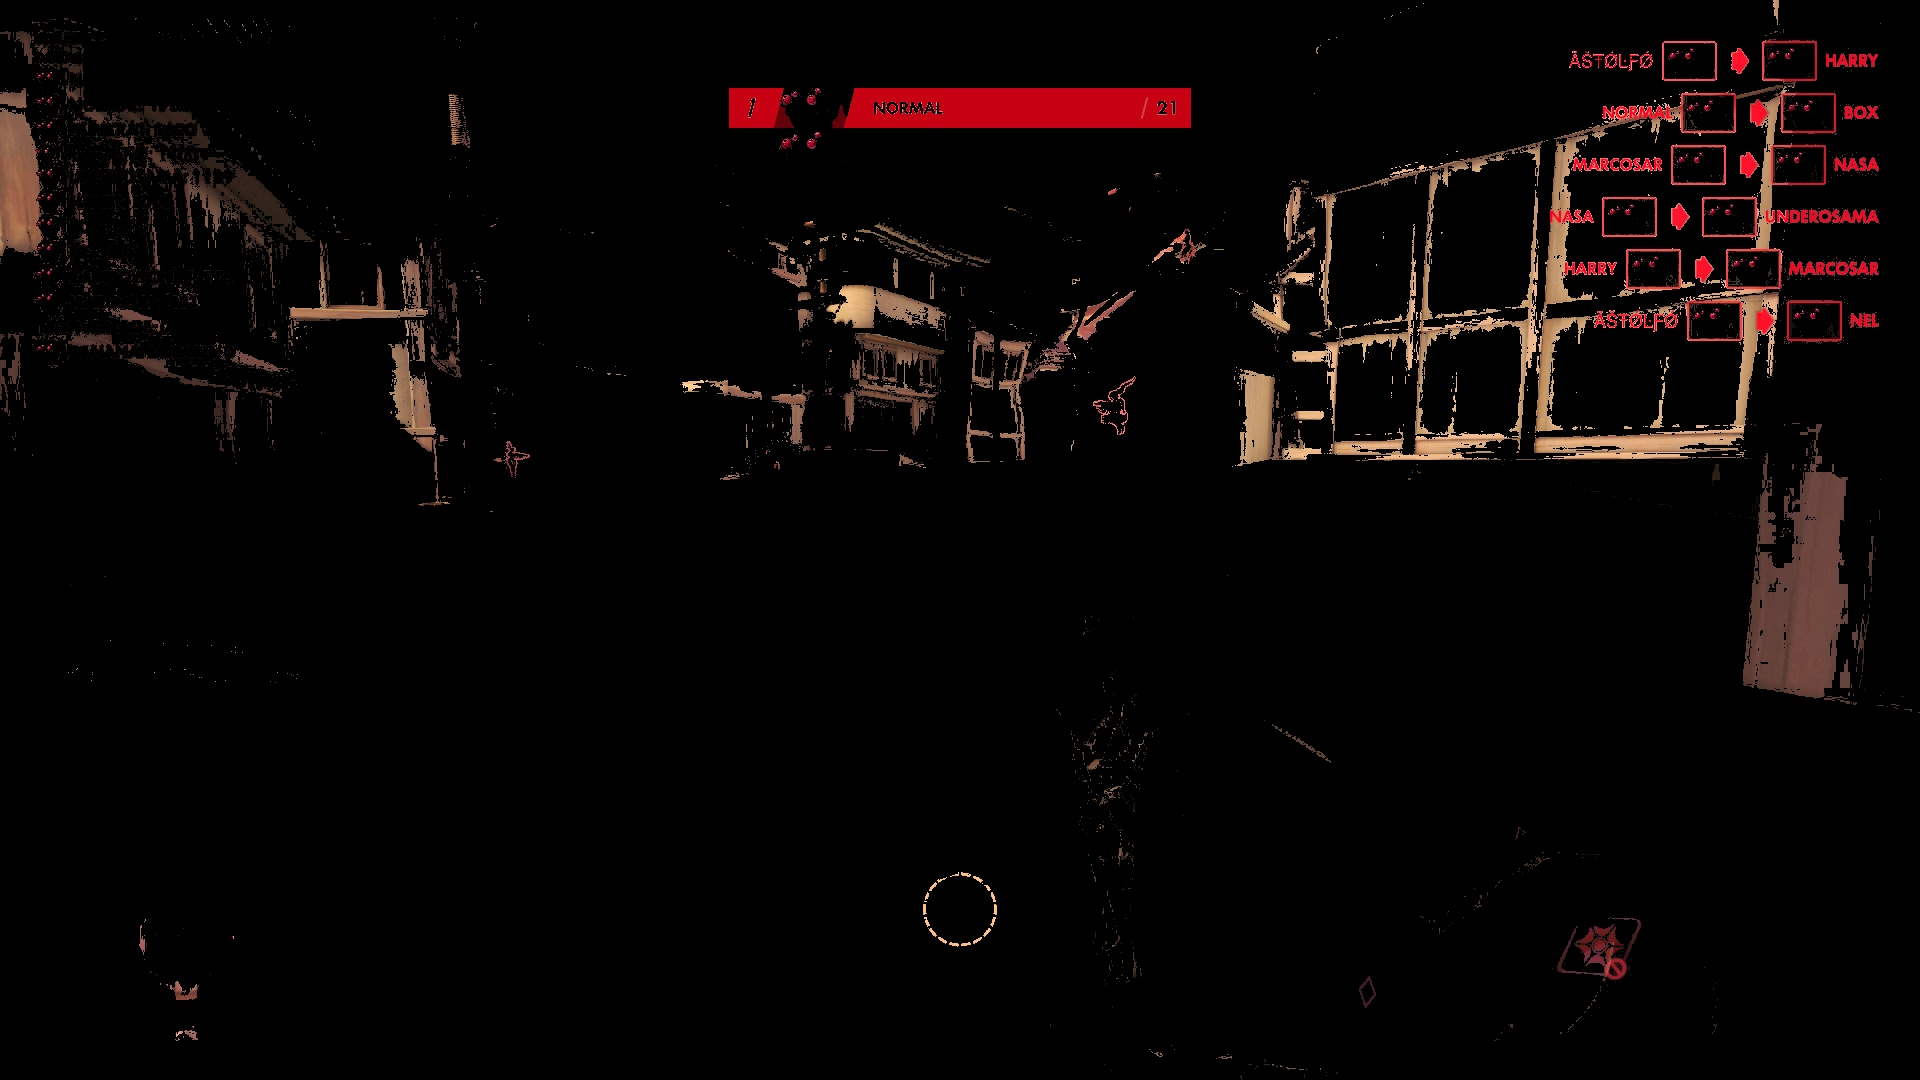widowmaker: (1092, 386, 1139, 440), (502, 440, 533, 480), (1178, 231, 1199, 264)
